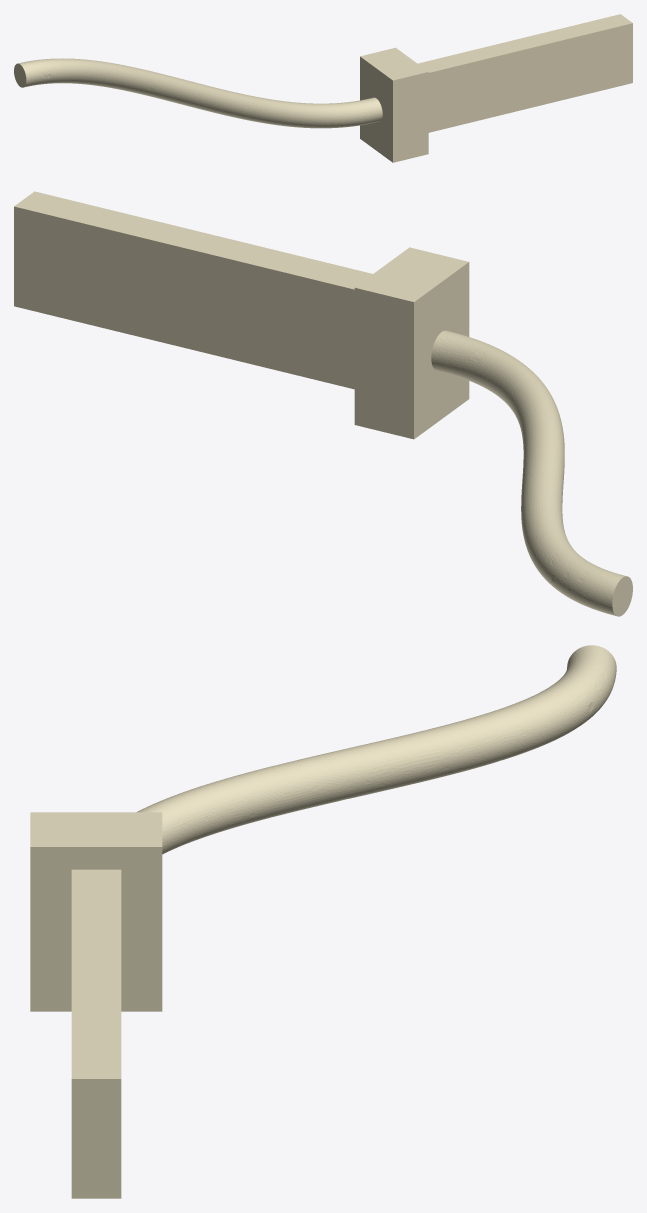
Rendered from iac-terminal-control-estimated.glb.
3 views of the same model, one above another, from view 1: azimuth 30°, elevation 25°; view 2: azimuth 150°, elevation 25°; view 3: azimuth 270°, elevation 25° (orthographic). The views are drawn at different scales.
Visible parts, largest first — view 1: world; view 2: world; view 3: world.
Boxes of the visible parts, <box> form: world: <box>14,14,632,162</box>; world: <box>14,191,632,616</box>; world: <box>30,645,616,1198</box>.
Size of the model in its own units: 0.0135 by 0.0022 by 0.0071.
